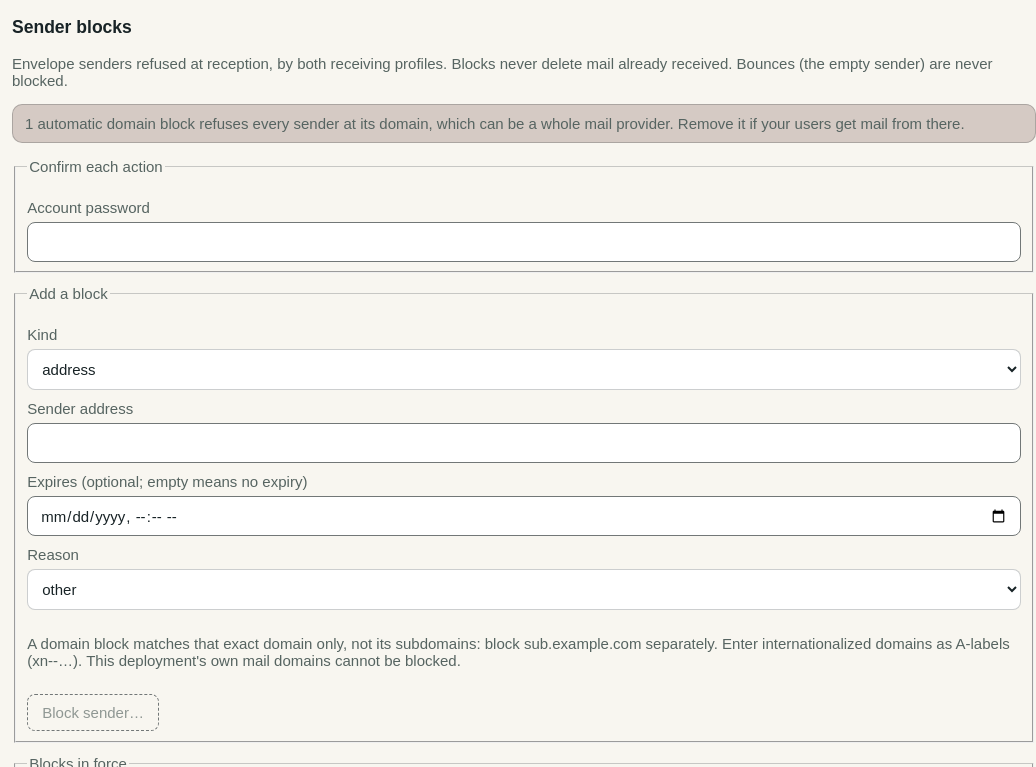
Test: locks until reload when no answer arrived
Type "account-secret" into the password field labelled "Account password".
click(524, 242); type("account-secret")  # box [27,222,1021,262]
(page scrolled)
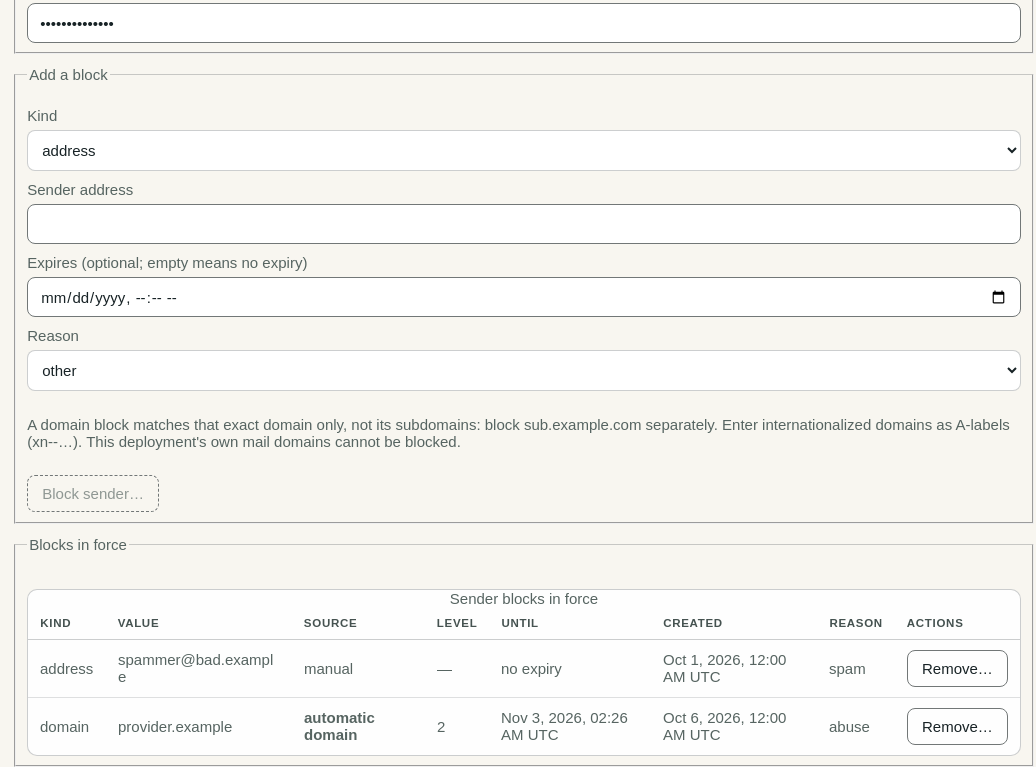
Click the button with aria-label "Remove address block spammer@bad.example".
click(957, 668)  # box [907,650,1008,687]
(page scrolled)
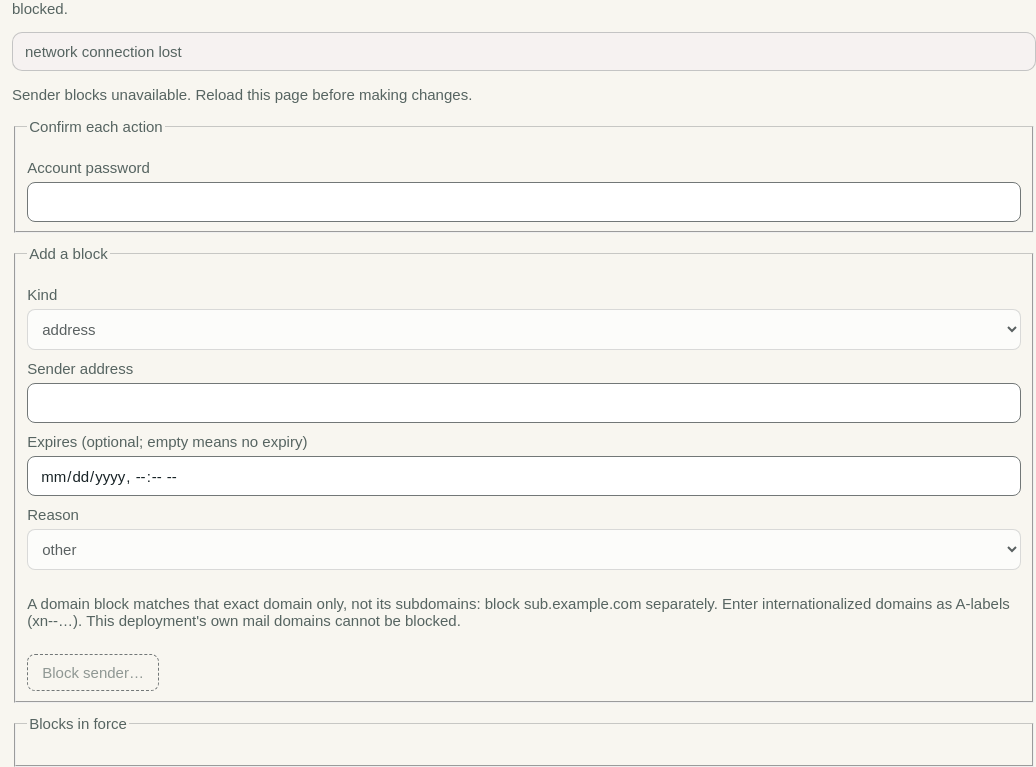
Result: the message reads "network connection lost" at [25,43,182,60]
Result: the text "Sender blocks unavailable. Reload this page before making changes." is shown at [12,86,472,103]
Result: the element "Confirm each action" is disabled at [14,118,1034,234]
